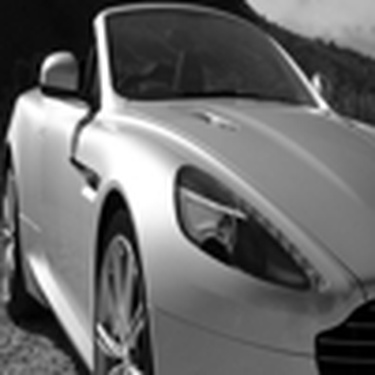car: (2, 2, 368, 368)
